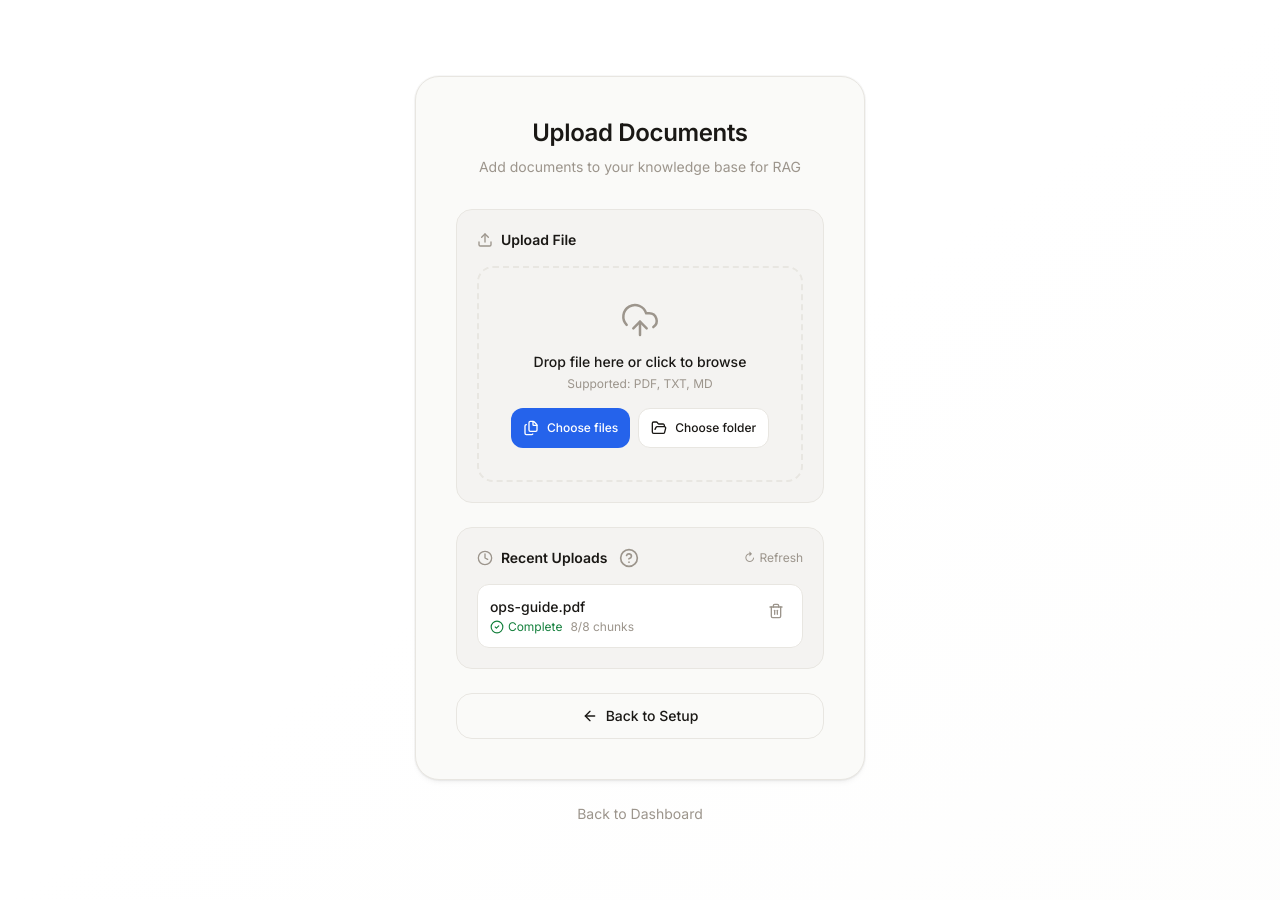
Test: AdminDocumentUpload › confirms and deletes a completed Document Ingestion job
The image size is (1280, 900).
Expected: the text "ops-guide.pdf" is shown, [490,598,585,615]
Click the button named "Delete document" at (776, 611), box [762,597,790,625]
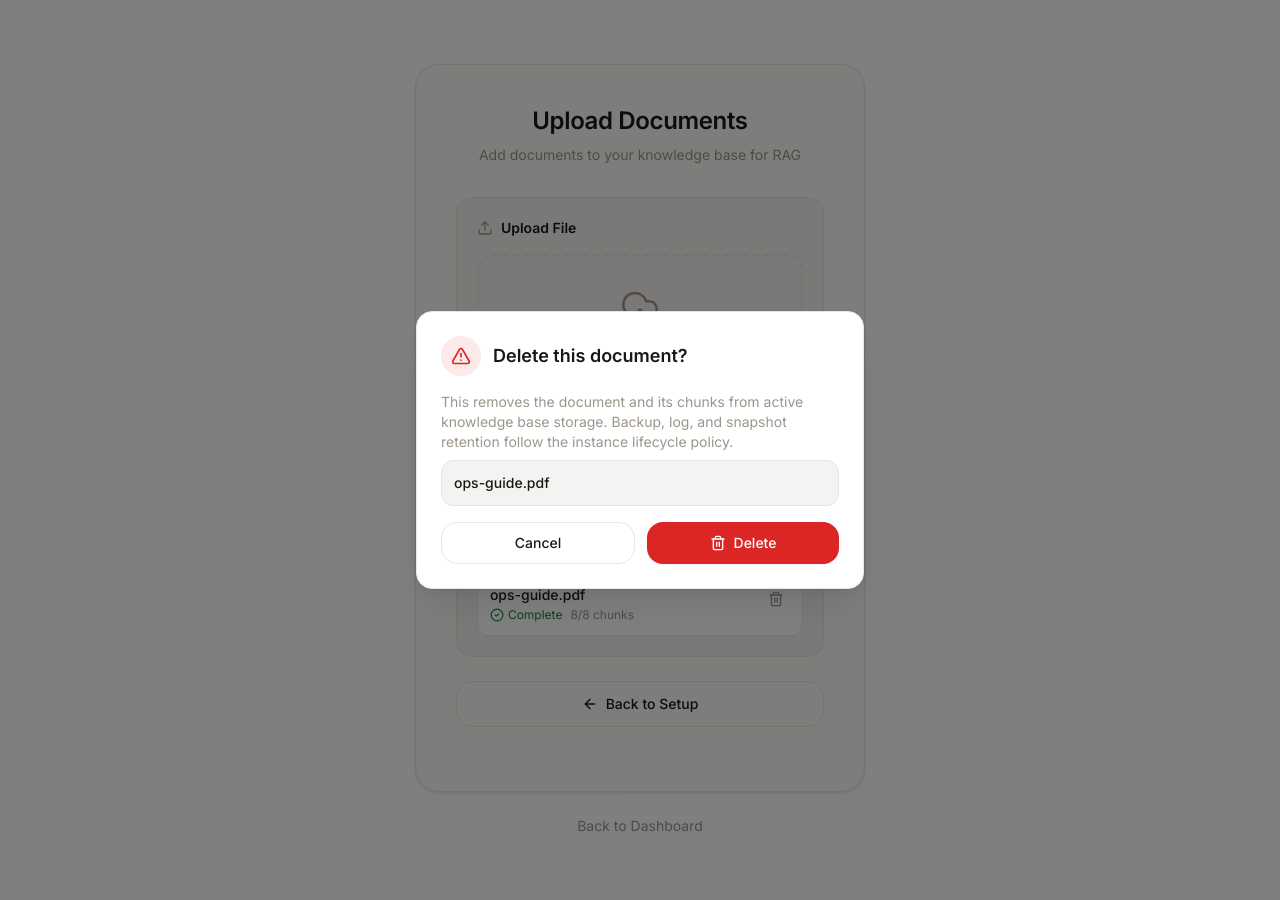
Expected: the dialog "Delete this document?" shows "This removes the document and its chunks from active knowledge base storage.", [441,393,803,450]
Expected: the dialog "Delete this document?" shows "ops-guide.pdf", [454,474,550,491]
Click the button "Delete" at (743, 543), box [647,522,839,564]
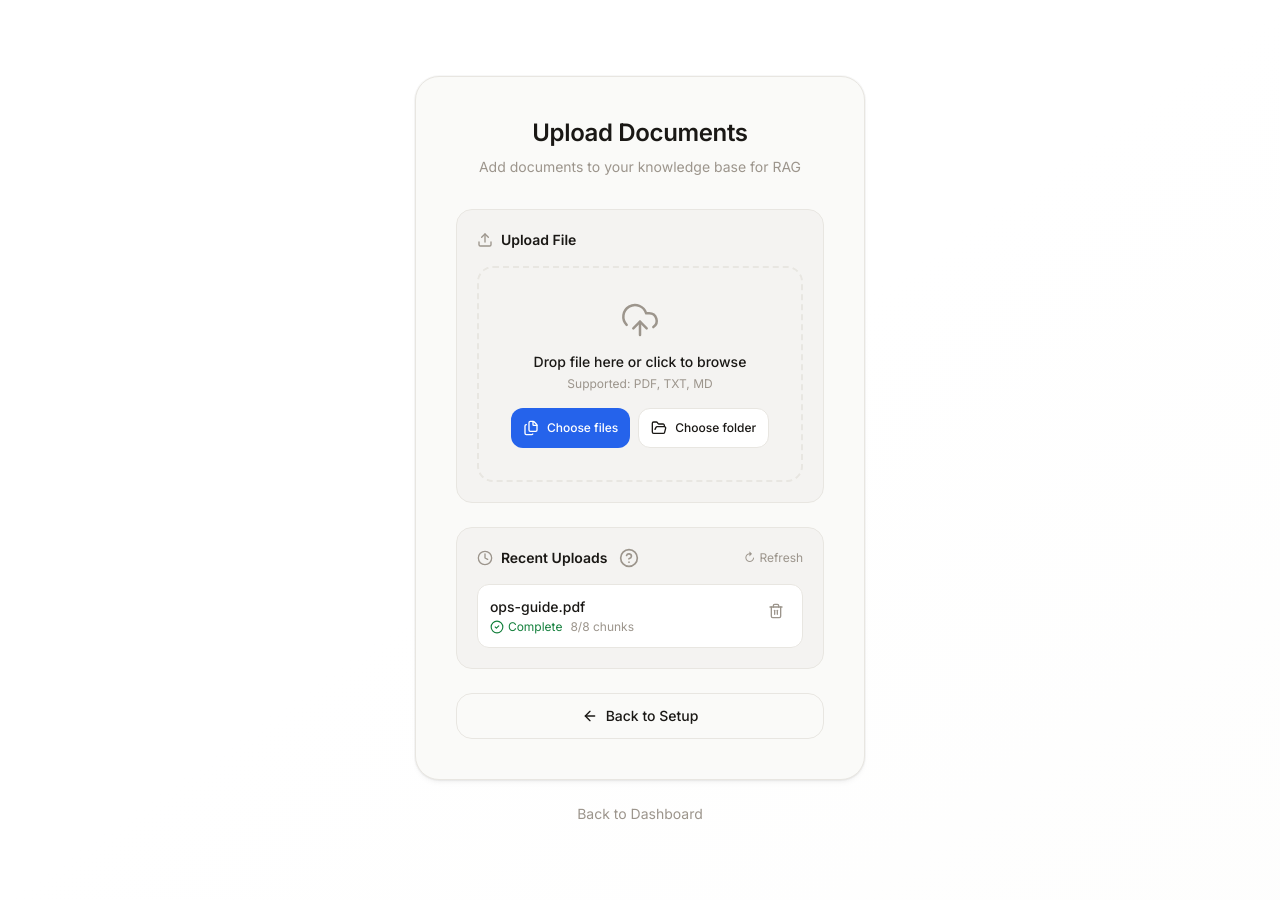
Expected: the heading "Delete this document?" is gone
